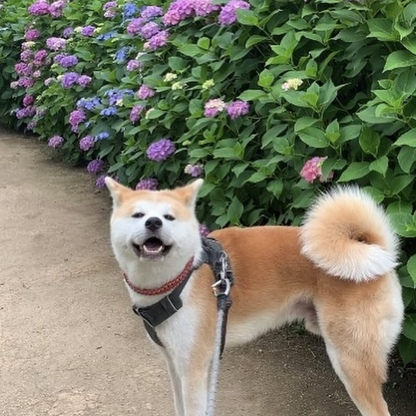akita: (95, 165, 411, 416)
